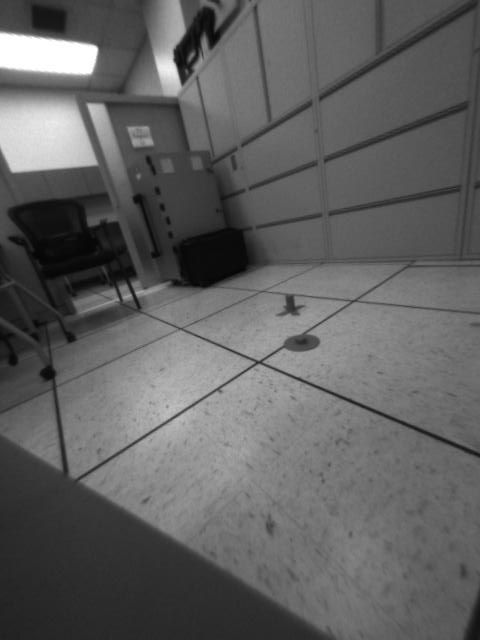X: (274, 293, 308, 320)
